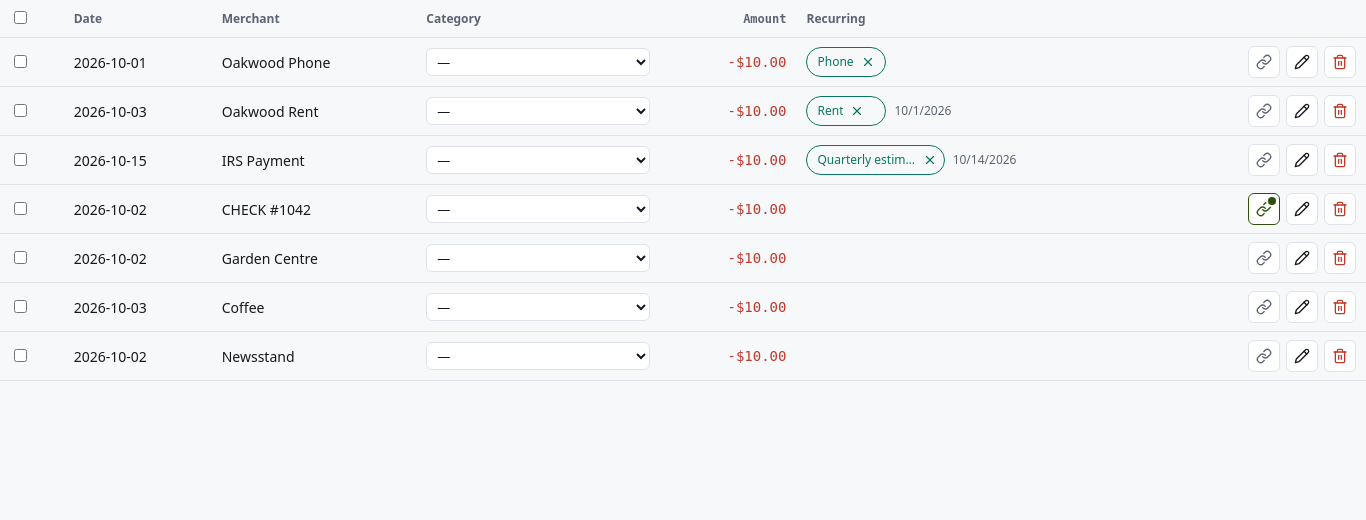
it: recurring column and picker on the Transactions page › the Link button › opens the picker in its own row under the row, moves focus into it and says so with aria-expanded
The image size is (1366, 520).
Click the button named "Link Coffee to a recurring item" at (1264, 307), box [1248,291,1280,323]
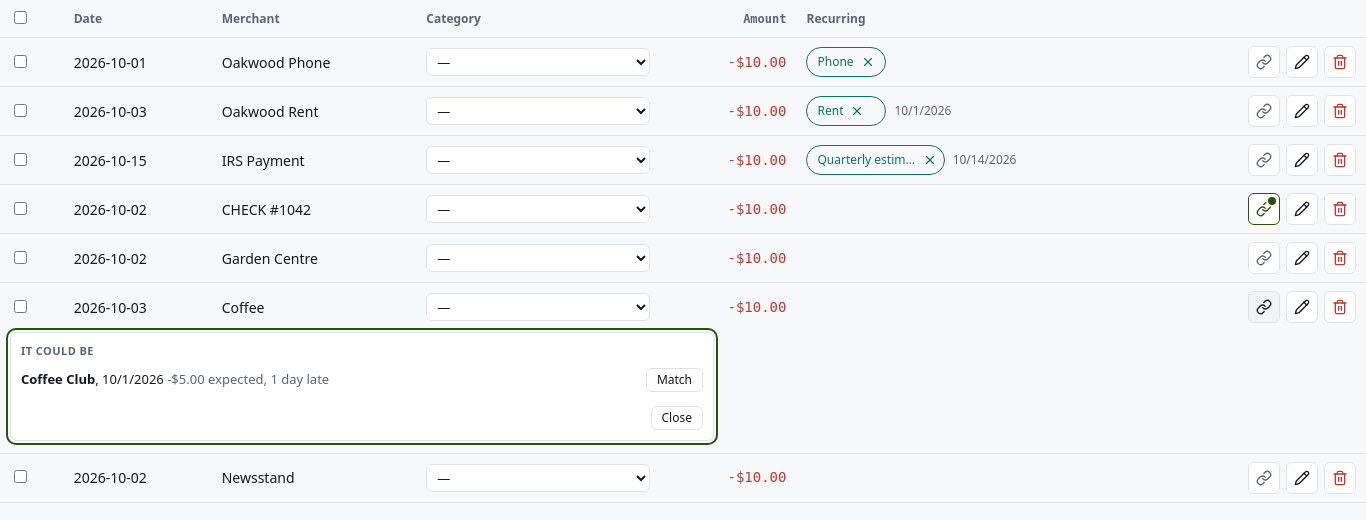
Expected: the button named "Link Coffee to a recurring item" is expanded, [1248,291,1280,323]
